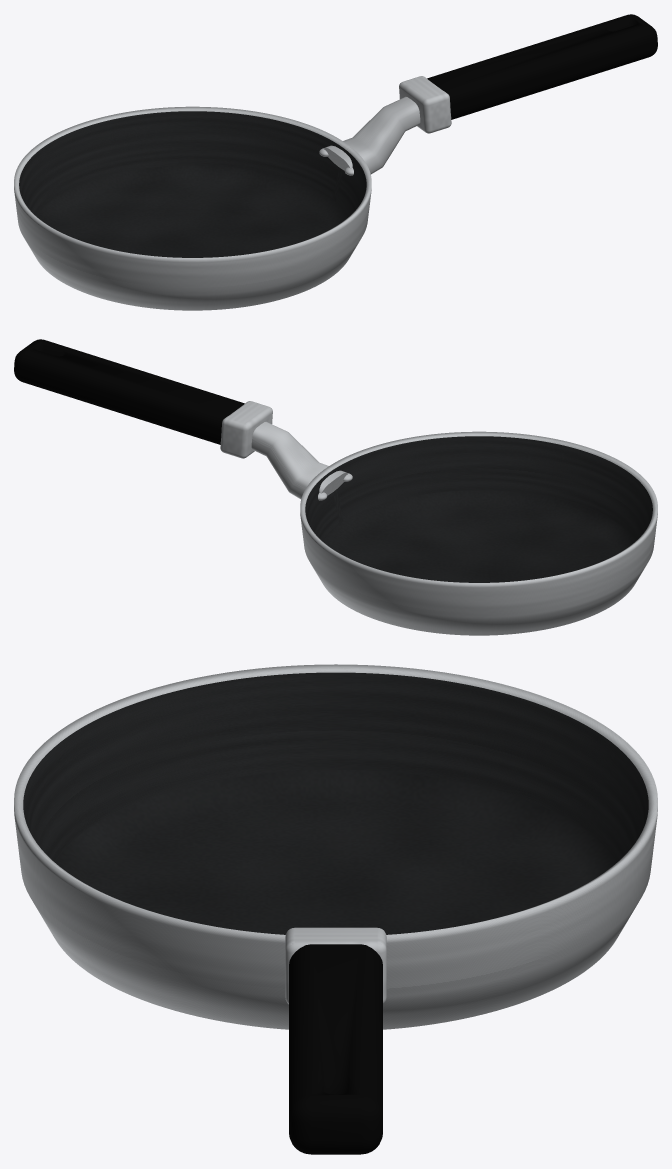
The model's file is StainlessFryingPan_280mm.fbx.
The picture shows the model from 3 angles, top to bottom: view 1: azimuth 30°, elevation 25°; view 2: azimuth 150°, elevation 25°; view 3: azimuth 270°, elevation 25°; orthographic projection. The views are drawn at different scales.
Parts seen in each view (by area): view 1: FryingPan_Body, FryingPan_BlackGrip, FryingPan_HandleNeck, FryingPan_GripCollar; view 2: FryingPan_Body, FryingPan_BlackGrip, FryingPan_HandleNeck, FryingPan_GripCollar; view 3: FryingPan_Body, FryingPan_BlackGrip, FryingPan_GripCollar.
Part boxes in pixels (<box>): FryingPan_Body: <box>14,106,371,310</box>; FryingPan_BlackGrip: <box>427,14,657,119</box>; FryingPan_HandleNeck: <box>324,96,420,174</box>; FryingPan_GripCollar: <box>399,76,451,133</box>; FryingPan_Body: <box>300,431,657,635</box>; FryingPan_BlackGrip: <box>14,339,244,444</box>; FryingPan_HandleNeck: <box>251,421,347,499</box>; FryingPan_GripCollar: <box>220,401,272,458</box>; FryingPan_Body: <box>14,664,657,1029</box>; FryingPan_BlackGrip: <box>289,944,382,1154</box>; FryingPan_GripCollar: <box>285,927,386,1004</box>.
Size of the model in its own units: 0.5525 by 0.1019 by 0.28.
Materials: 3 (2 with a texture image).
